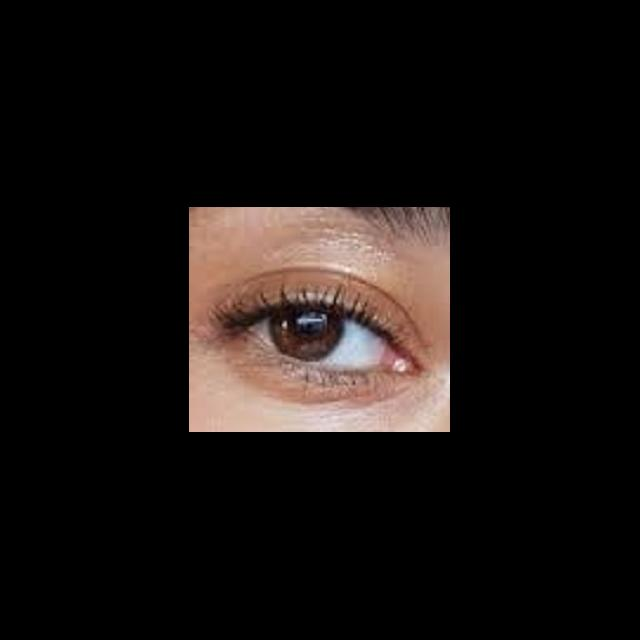eye: (250, 308, 393, 370)
iris: (270, 310, 344, 363)
